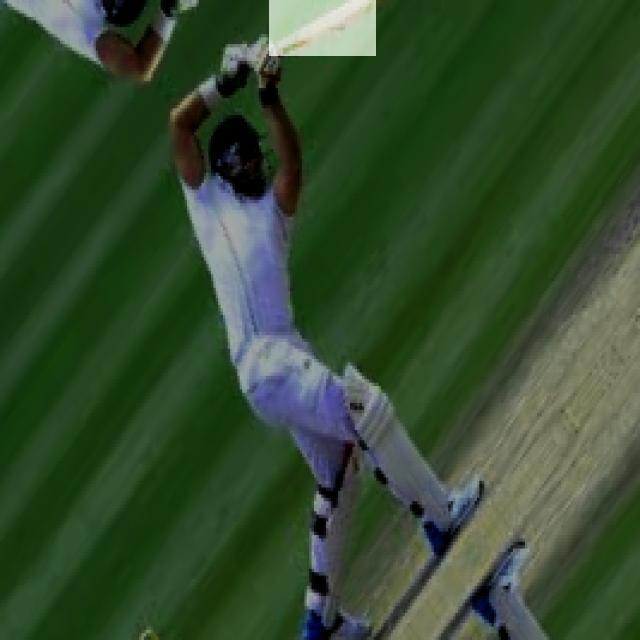bat: (266, 0, 376, 54)
